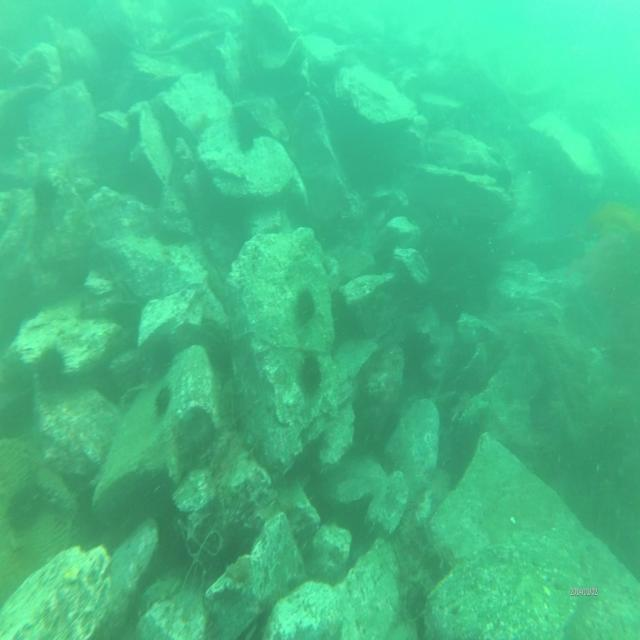echinus: (5, 476, 47, 538), (34, 346, 70, 398), (292, 278, 319, 334), (30, 172, 60, 218), (299, 348, 324, 401), (150, 381, 175, 419), (232, 128, 258, 160)
holothurian: (223, 554, 254, 588)
